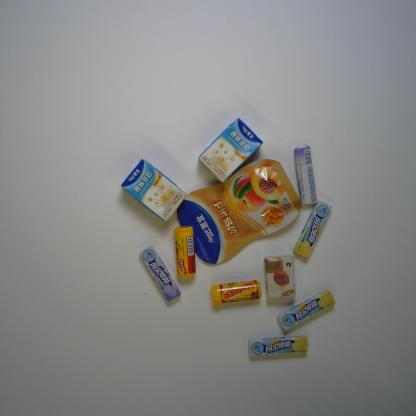Candy: (139, 244, 182, 303), (277, 288, 336, 330), (293, 200, 332, 260), (294, 144, 318, 206), (210, 280, 262, 307), (247, 334, 308, 356), (172, 226, 197, 277)
Dried Fruit: (176, 159, 302, 264)
Milk: (120, 158, 187, 222), (198, 118, 263, 183)
Tissue: (263, 255, 296, 300)
